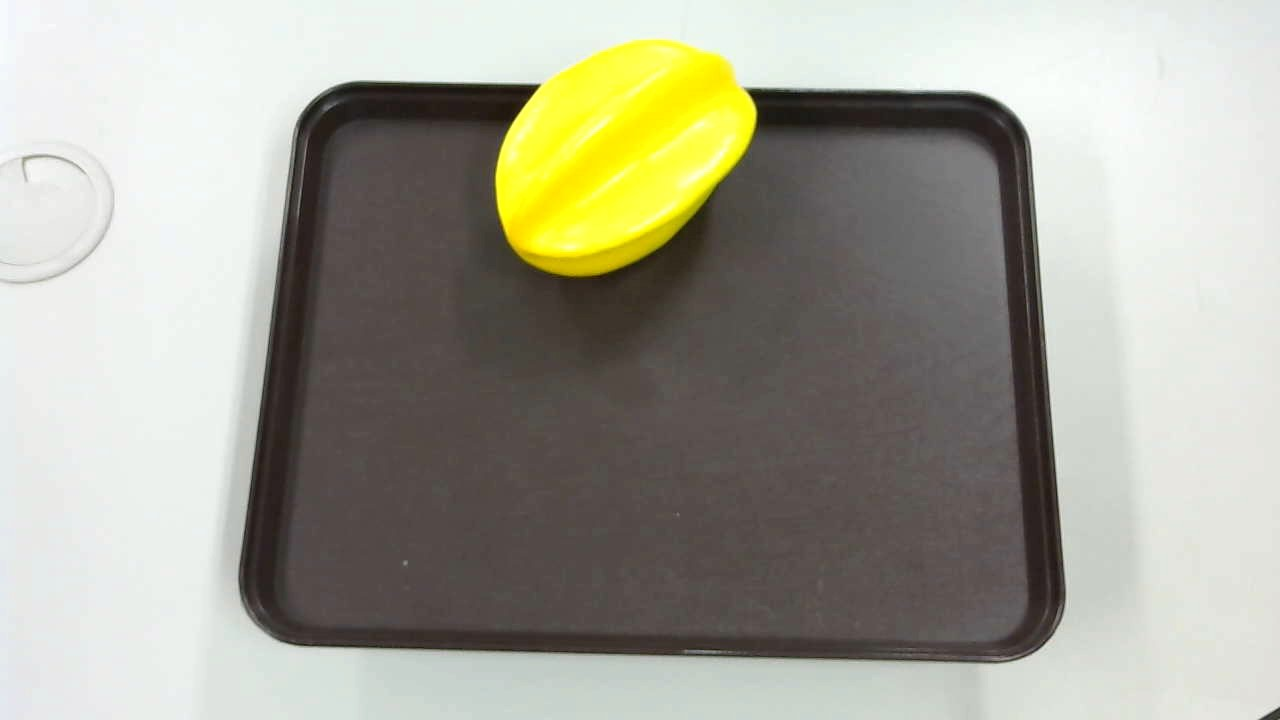star fruit: (483, 35, 761, 285)
